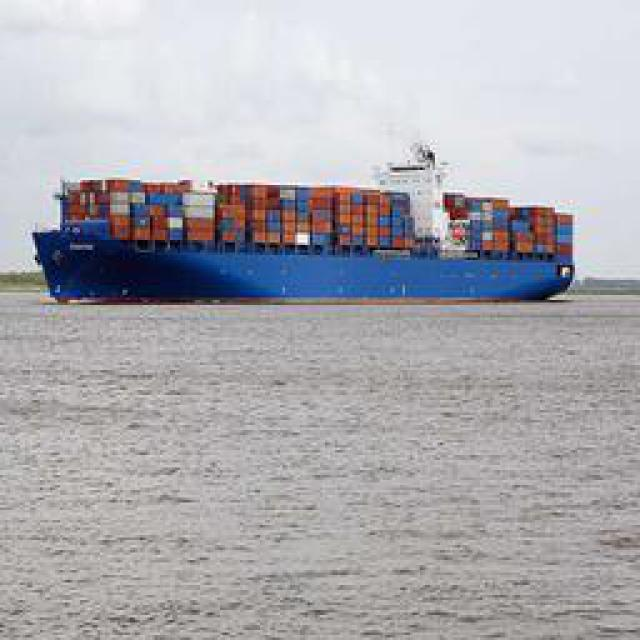Ship: (31, 152, 579, 305)
